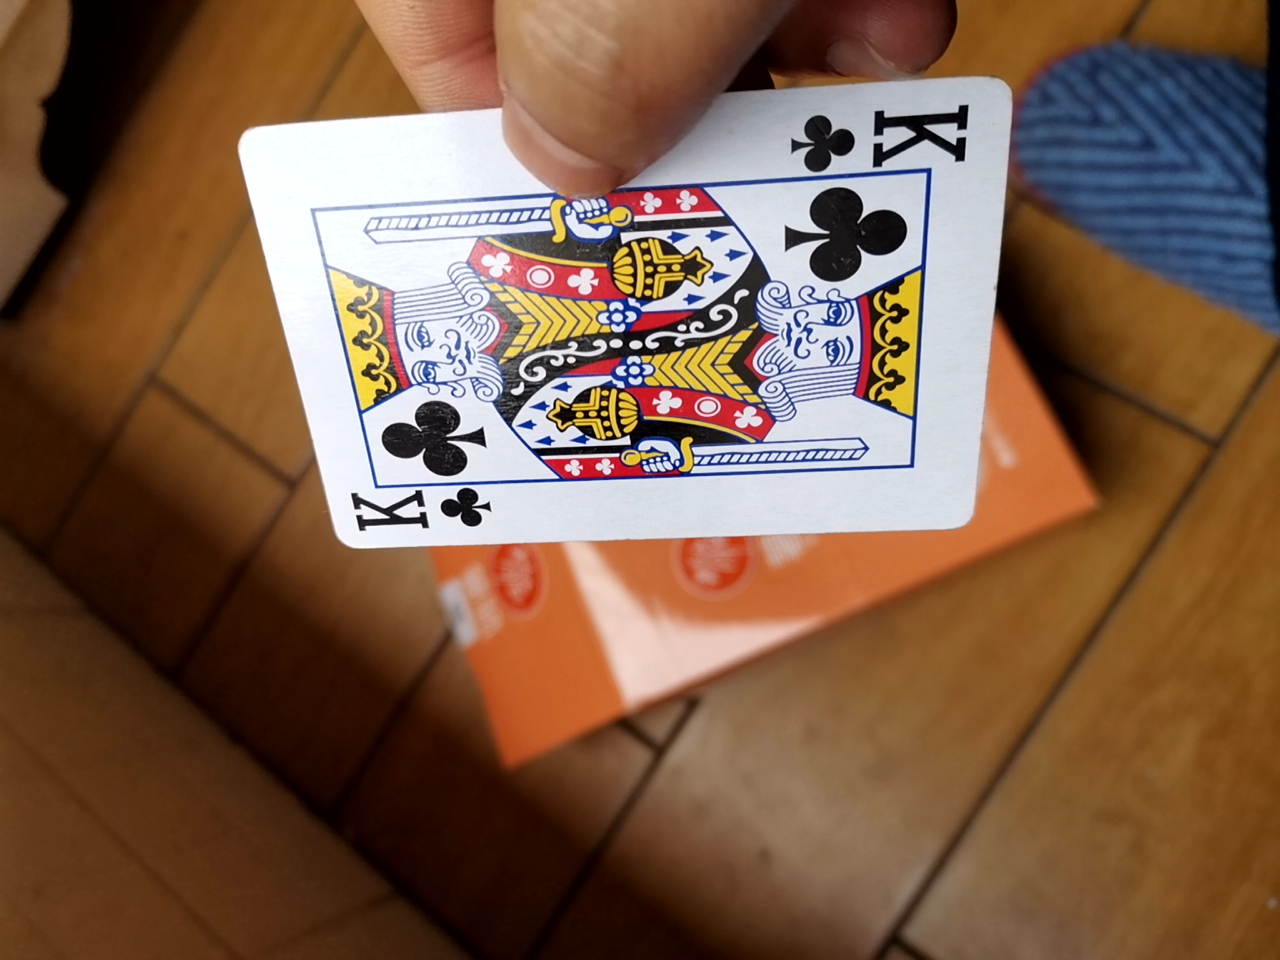mh k: (226, 89, 1012, 553)
